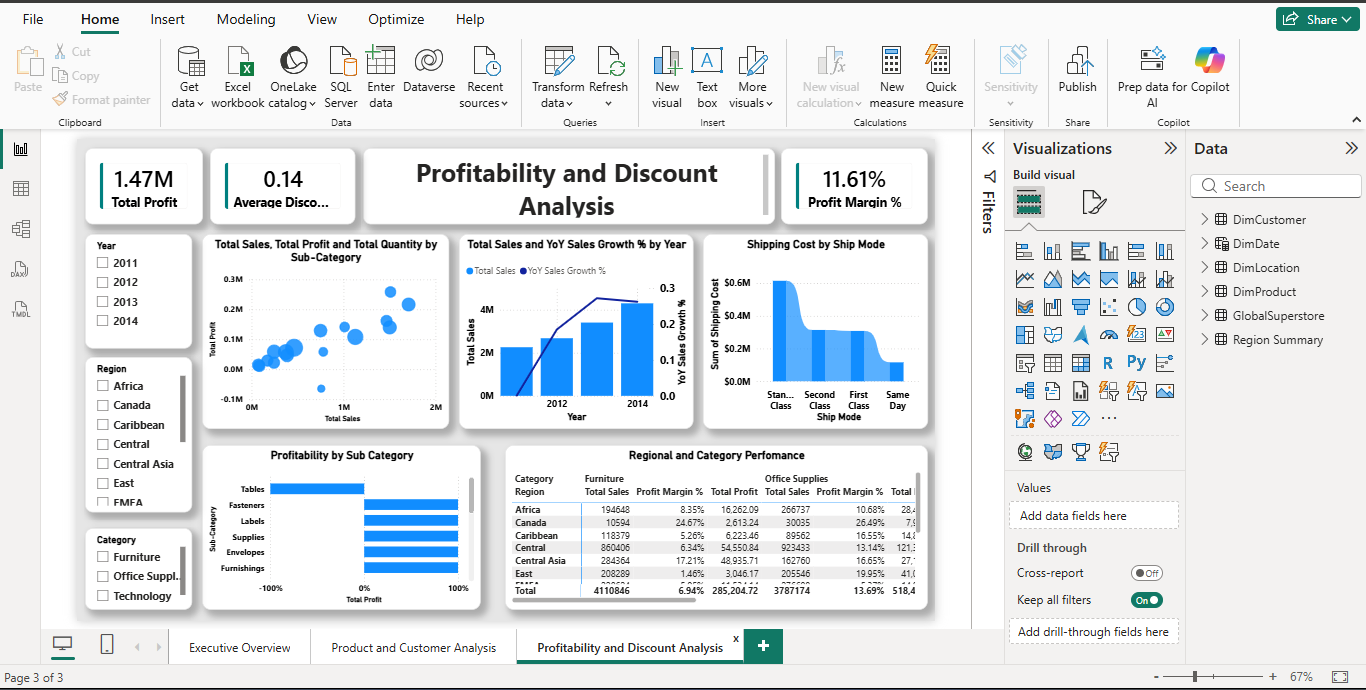

This screenshot's page, from the dashboard's own definition file:
{"tool":"powerbi","page":{"name":"Profitability and Discount Analysis","canvas":[1280,720],"ordinal":2},"visuals":[{"type":"textbox","box":[426.2,13,614.9,113.8],"z":0},{"type":"cardVisual","fields":{"Data":["GlobalSuperstore.Total Profit"]},"box":[11.5,13,175.7,113.8],"z":1},{"type":"cardVisual","fields":{"Data":["GlobalSuperstore.Profit Margin %"]},"box":[1051.2,13,218.9,113.8],"z":2},{"type":"cardVisual","fields":{"Data":["GlobalSuperstore.Average Discount"]},"box":[198.7,13,217.4,113.8],"z":3},{"type":"scatterChart","fields":{"Category":["GlobalSuperstore.Sub-Category"],"Size":["GlobalSuperstore.Total Quantity"],"X":["GlobalSuperstore.Total Sales"],"Y":["GlobalSuperstore.Total Profit"]},"box":[187.2,141.1,368.6,290.9],"z":4},{"type":"pivotTable","title":"Regional and Category Perfomance","fields":{"Columns":["GlobalSuperstore.Category"],"Rows":["GlobalSuperstore.Region"],"Values":["GlobalSuperstore.Total Sales","GlobalSuperstore.Profit Margin %","GlobalSuperstore.Total Profit"]},"box":[639.4,456.5,630.7,246.2],"z":5},{"type":"hundredPercentStackedBarChart","title":"Profitability by Sub Category","fields":{"Category":["GlobalSuperstore.Sub-Category"],"Y":["GlobalSuperstore.Total Profit"]},"box":[187.2,456.5,416.2,246.2],"z":6},{"type":"lineClusteredColumnComboChart","fields":{"Category":["DimDate.Year"],"Y":["GlobalSuperstore.Total Sales"],"Y2":["DimDate.YoY Sales Growth %"]},"box":[570.2,141.1,349.9,290.9],"z":7},{"type":"ribbonChart","title":"Shipping Cost by Ship Mode","fields":{"Category":["GlobalSuperstore.Ship Mode"],"Y":["Sum(GlobalSuperstore.Shipping Cost)"]},"box":[934.6,141.1,335.5,290.9],"z":8},{"type":"slicer","fields":{"Values":["GlobalSuperstore.Year"]},"box":[11.5,141.1,159.8,171.4],"z":9},{"type":"slicer","fields":{"Values":["GlobalSuperstore.Region"]},"box":[11.5,325.4,159.8,231.8],"z":10},{"type":"slicer","fields":{"Values":["GlobalSuperstore.Category"]},"box":[11.5,580.3,159.8,122.4],"z":11}]}

Visuals, with their boxes on the page's 1280x720 design canvas (x1, y1, x2, y2). These are canvas units, not pixel positions in the 1366x690 screenshot, which may show the page scaled, cropped or inside an application window:
textbox: <region>426, 13, 1041, 127</region>
cardVisual - GlobalSuperstore.Total Profit: <region>12, 13, 187, 127</region>
cardVisual - GlobalSuperstore.Profit Margin %: <region>1051, 13, 1270, 127</region>
cardVisual - GlobalSuperstore.Average Discount: <region>199, 13, 416, 127</region>
scatterChart - GlobalSuperstore.Sub-Category x GlobalSuperstore.Total Quantity: <region>187, 141, 556, 432</region>
"Regional and Category Perfomance" pivotTable: <region>639, 456, 1270, 703</region>
"Profitability by Sub Category" hundredPercentStackedBarChart: <region>187, 456, 603, 703</region>
lineClusteredColumnComboChart - DimDate.Year x GlobalSuperstore.Total Sales: <region>570, 141, 920, 432</region>
"Shipping Cost by Ship Mode" ribbonChart: <region>935, 141, 1270, 432</region>
slicer - GlobalSuperstore.Year: <region>12, 141, 171, 312</region>
slicer - GlobalSuperstore.Region: <region>12, 325, 171, 557</region>
slicer - GlobalSuperstore.Category: <region>12, 580, 171, 703</region>
